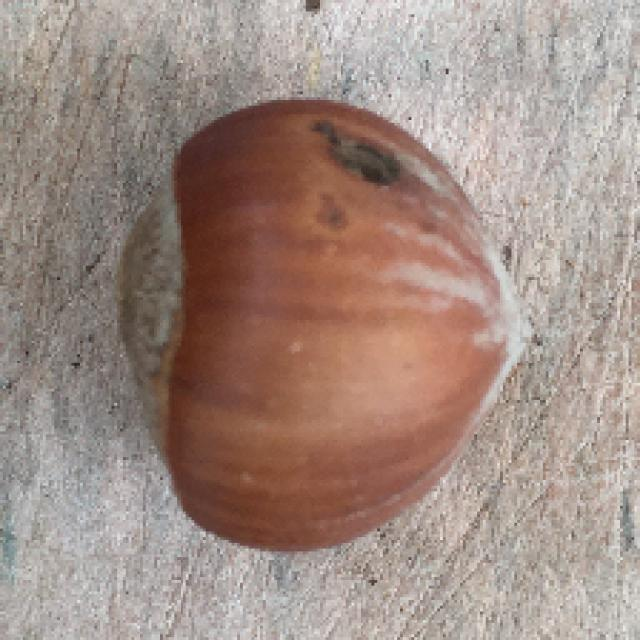damagedHazelnut: (121, 75, 526, 563)
